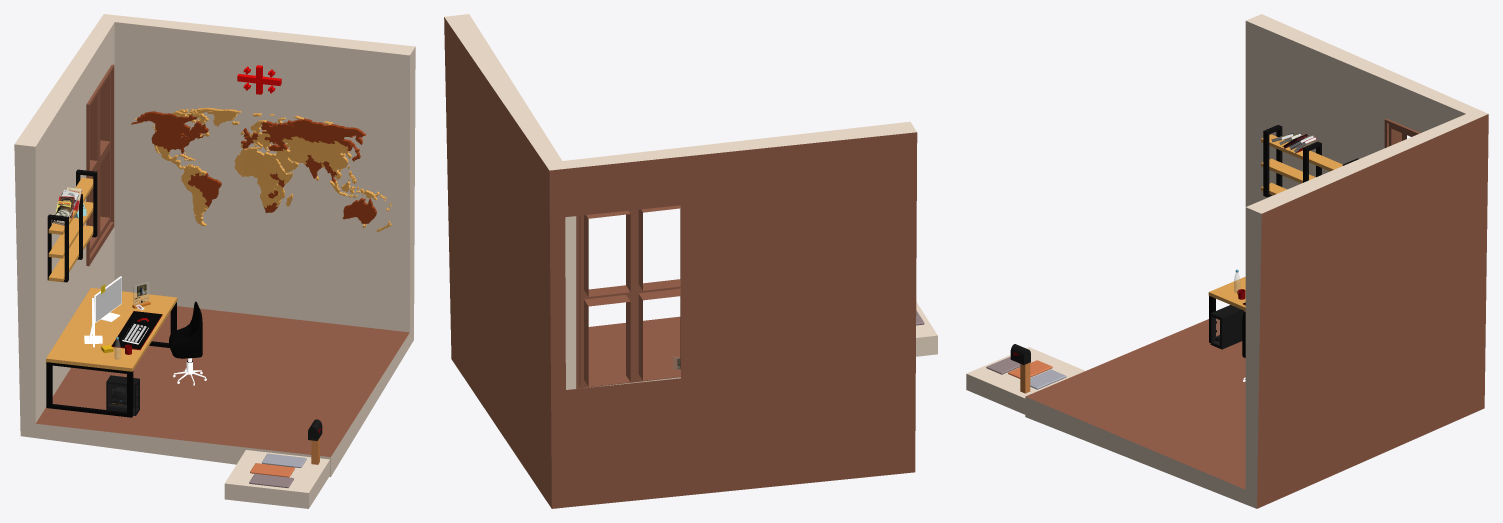
The model's file is tutorial_table_final.glb.
The picture shows the model from 3 angles, left to right: view 1: azimuth 30°, elevation 25°; view 2: azimuth 150°, elevation 25°; view 3: azimuth 270°, elevation 25°; orthographic projection. The views are drawn at different scales.
Visible parts, largest first — view 1: Cube.045, Map.001, Table Top, Window, Cube.061, Cube.060, Table Legs, Cube.058, Cube.047, Mousepad, Curve.032, screen2 (+4 smaller); view 2: Cube.045, Window, Cube.061; view 3: Cube.045, Cube.061, Cube.060, Cube.058, Cube.053, Table Top.
Boxes of the visible parts, left/top/right/bottom form: Cube.045: left=14, top=14, right=415, bottom=476; Map.001: left=131, top=107, right=391, bottom=231; Table Top: left=46, top=287, right=177, bottom=371; Window: left=86, top=64, right=114, bottom=266; Cube.061: left=224, top=450, right=329, bottom=508; Cube.060: left=48, top=177, right=93, bottom=282; Table Legs: left=46, top=302, right=176, bottom=417; Cube.058: left=47, top=169, right=97, bottom=282; Cube.047: left=169, top=301, right=202, bottom=358; Mousepad: left=111, top=311, right=162, bottom=349; Curve.032: left=237, top=65, right=281, bottom=94; screen2: left=96, top=277, right=121, bottom=321; Cube.045: left=444, top=14, right=917, bottom=508; Window: left=576, top=205, right=680, bottom=388; Cube.061: left=916, top=302, right=937, bottom=356; Cube.045: left=1025, top=14, right=1488, bottom=508; Cube.061: left=966, top=347, right=1084, bottom=414; Cube.060: left=1261, top=134, right=1342, bottom=195; Cube.058: left=1263, top=125, right=1358, bottom=197; Cube.053: left=1210, top=305, right=1244, bottom=349; Table Top: left=1208, top=276, right=1245, bottom=310.
Bounding box in the file's own units: 30.18 × 21.34 × 33.34.
Materials: 44 (8 with a texture image).
